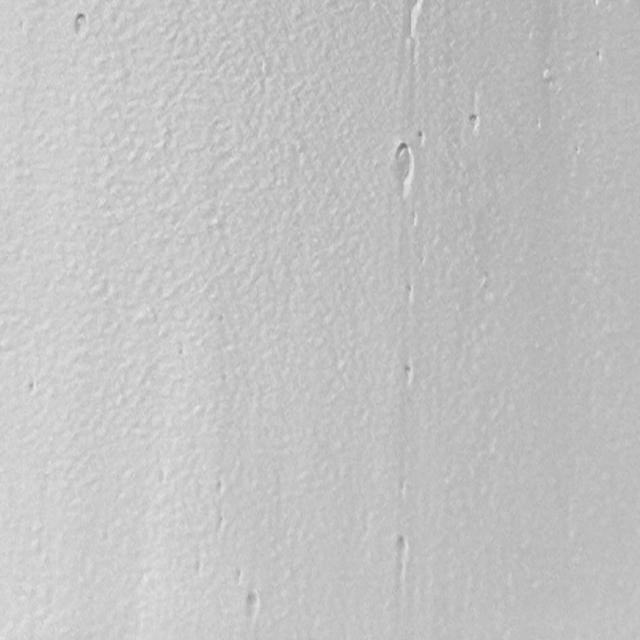pin holes: (387, 144, 415, 194), (391, 534, 410, 566), (69, 10, 90, 38), (243, 593, 263, 622), (402, 361, 419, 387), (212, 476, 229, 499), (230, 566, 246, 586), (467, 114, 481, 135), (403, 284, 416, 306), (25, 378, 39, 398), (415, 128, 427, 148), (408, 210, 420, 230), (592, 48, 605, 66), (542, 65, 555, 81)
